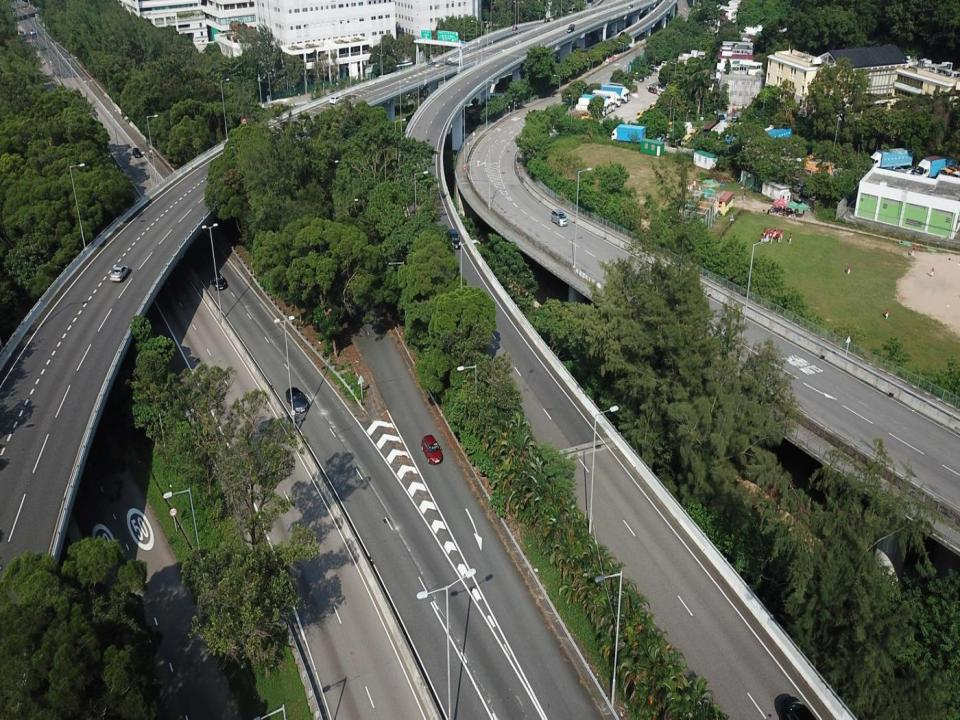bus: (602, 82, 624, 95)
car: (420, 434, 443, 465), (286, 386, 310, 415), (208, 268, 228, 292), (109, 264, 130, 282), (446, 228, 462, 250), (550, 207, 568, 226), (328, 95, 343, 106), (132, 147, 143, 158), (567, 23, 576, 33), (28, 27, 36, 36), (618, 31, 625, 39), (512, 25, 518, 32), (627, 4, 634, 10)
truck: (913, 152, 959, 181), (868, 146, 914, 171), (610, 124, 646, 146), (581, 93, 612, 113), (591, 88, 621, 108), (578, 97, 610, 115), (599, 86, 628, 103), (575, 102, 606, 117)
